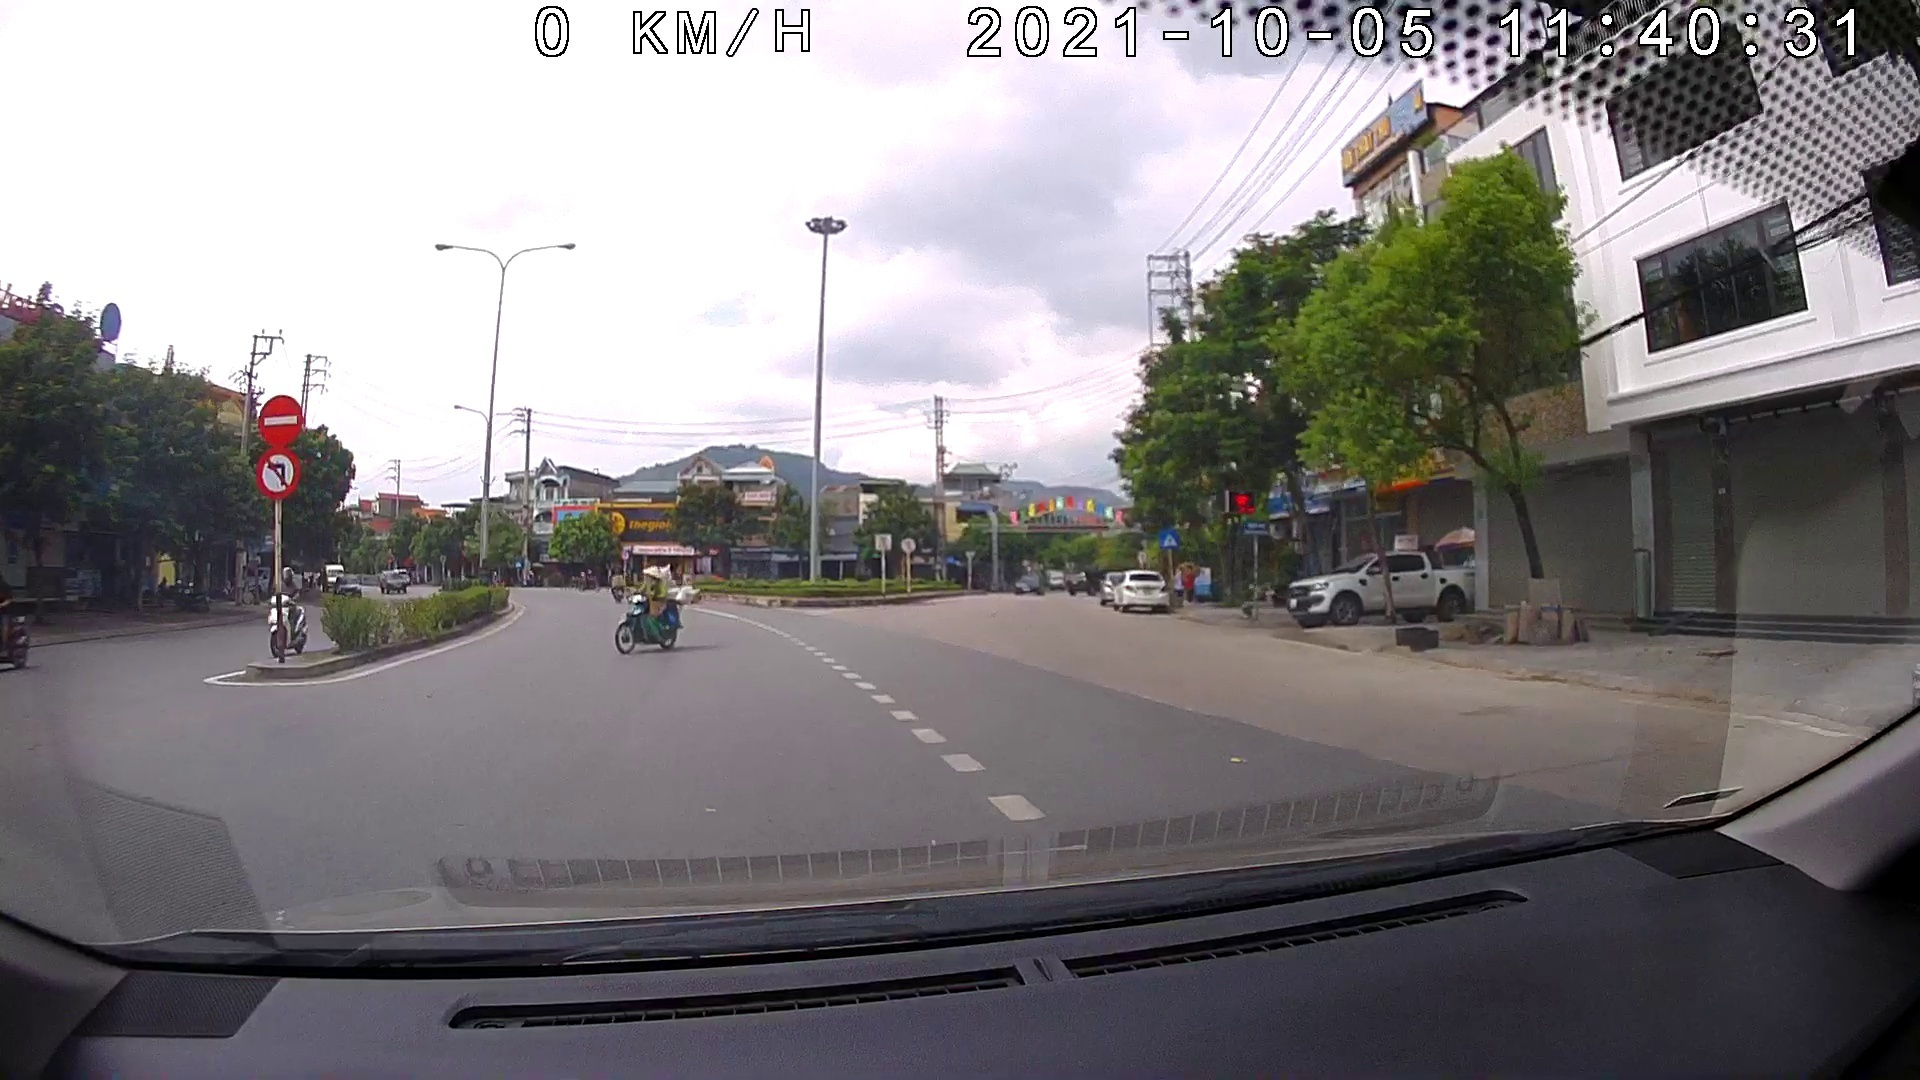Bien khac: (253, 448, 298, 497)
Cam di nguoc chieu: (258, 396, 305, 443)
